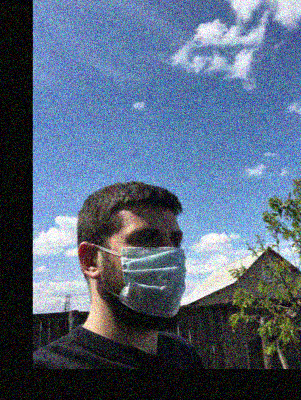with_mask: (115, 219, 186, 331)
